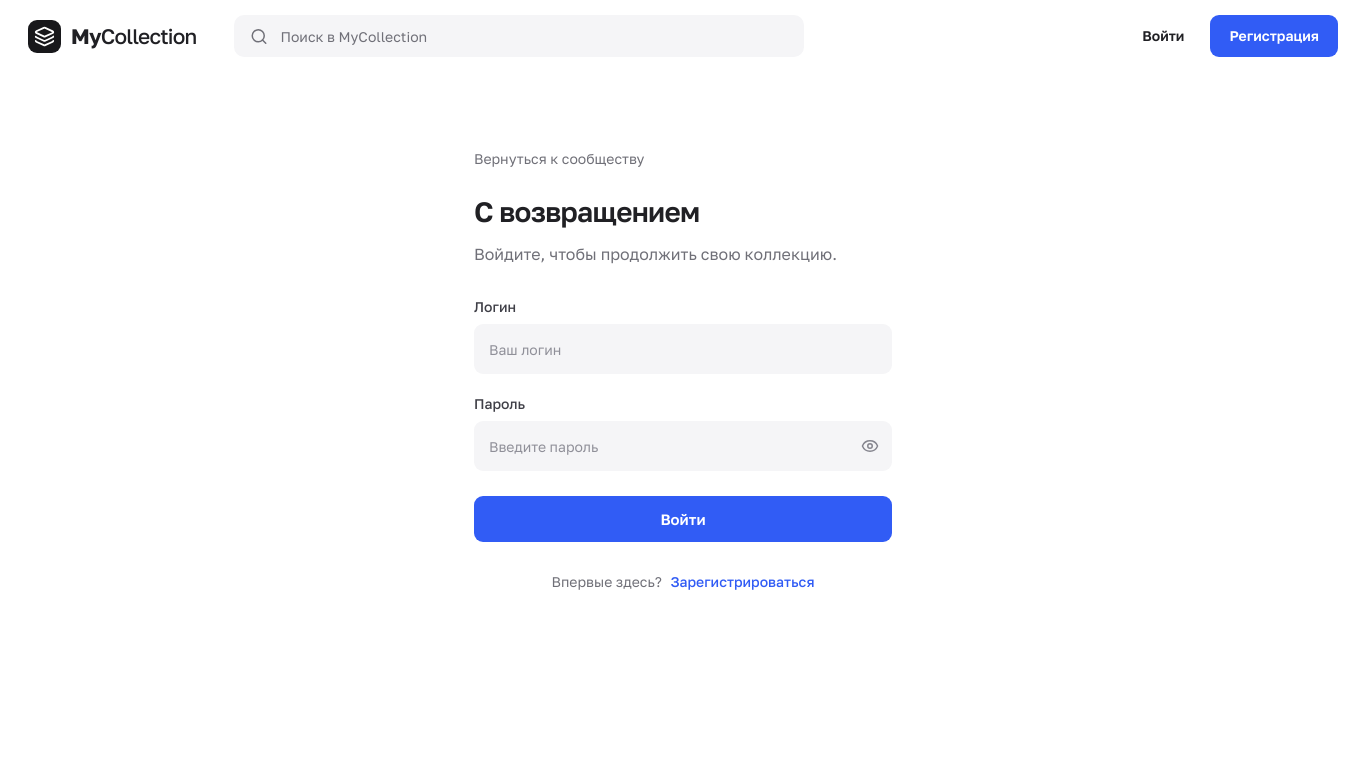
it: MyCollection account flow › shows a useful message when the server is offline
In the field labelled "Логин": (683, 349) [474,324,892,374], type "collector"
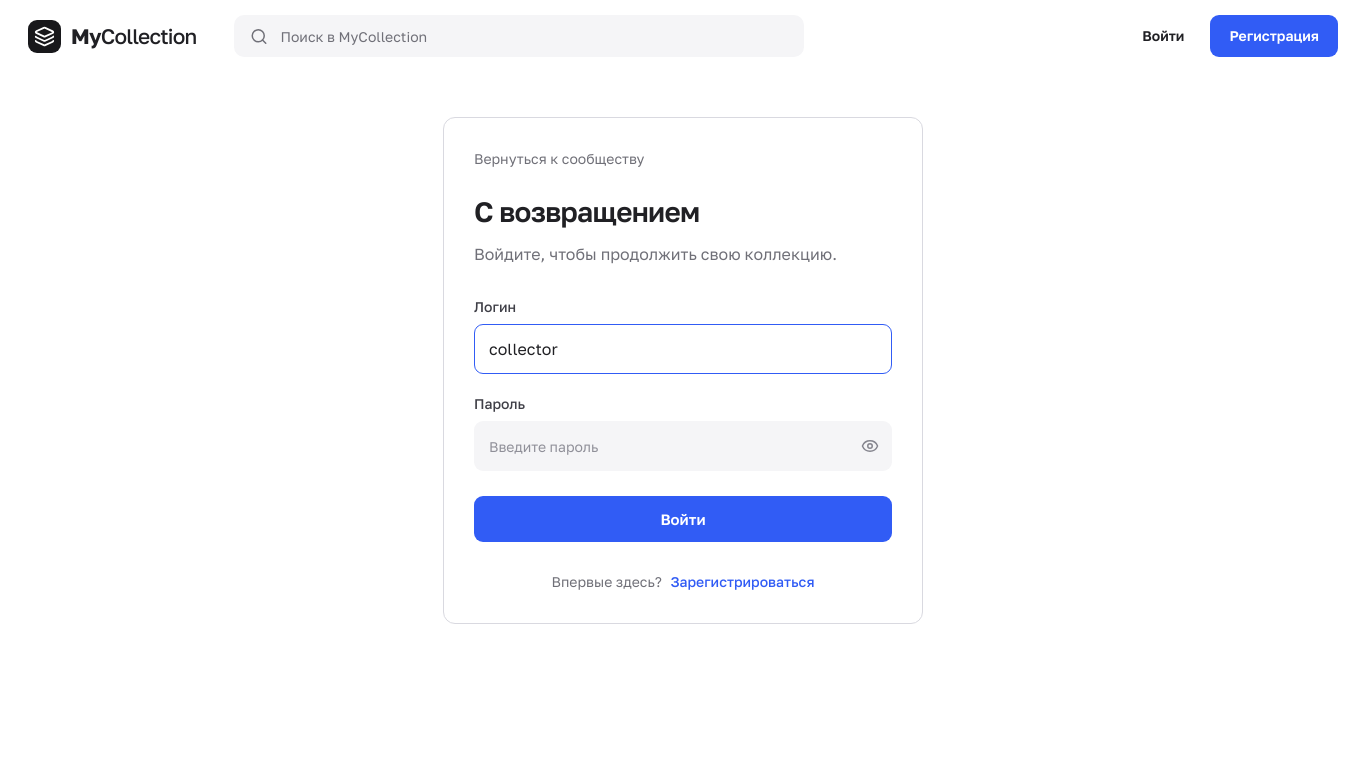
In the password field labelled "Пароль": (683, 446) [474,421,892,471], type "password123"
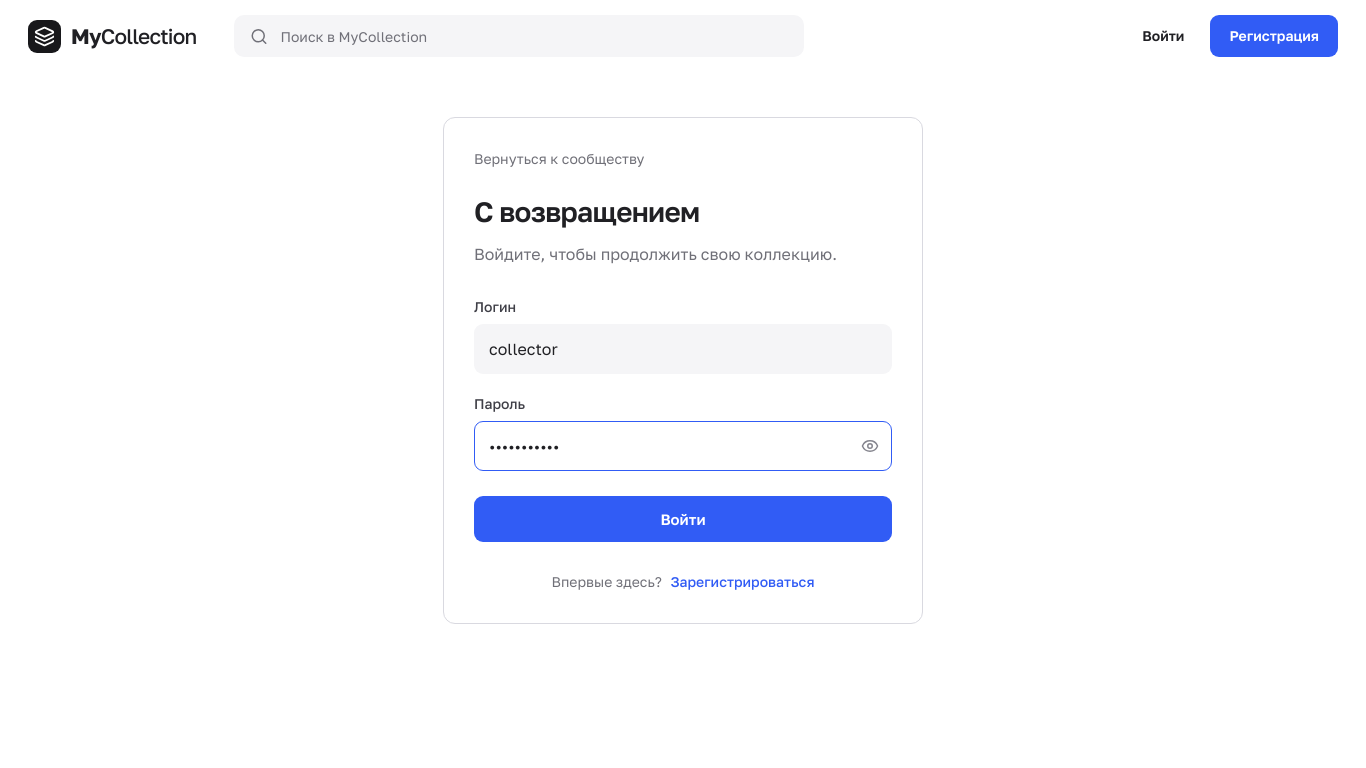
Click the button "Войти": (683, 519) [474,496,892,542]
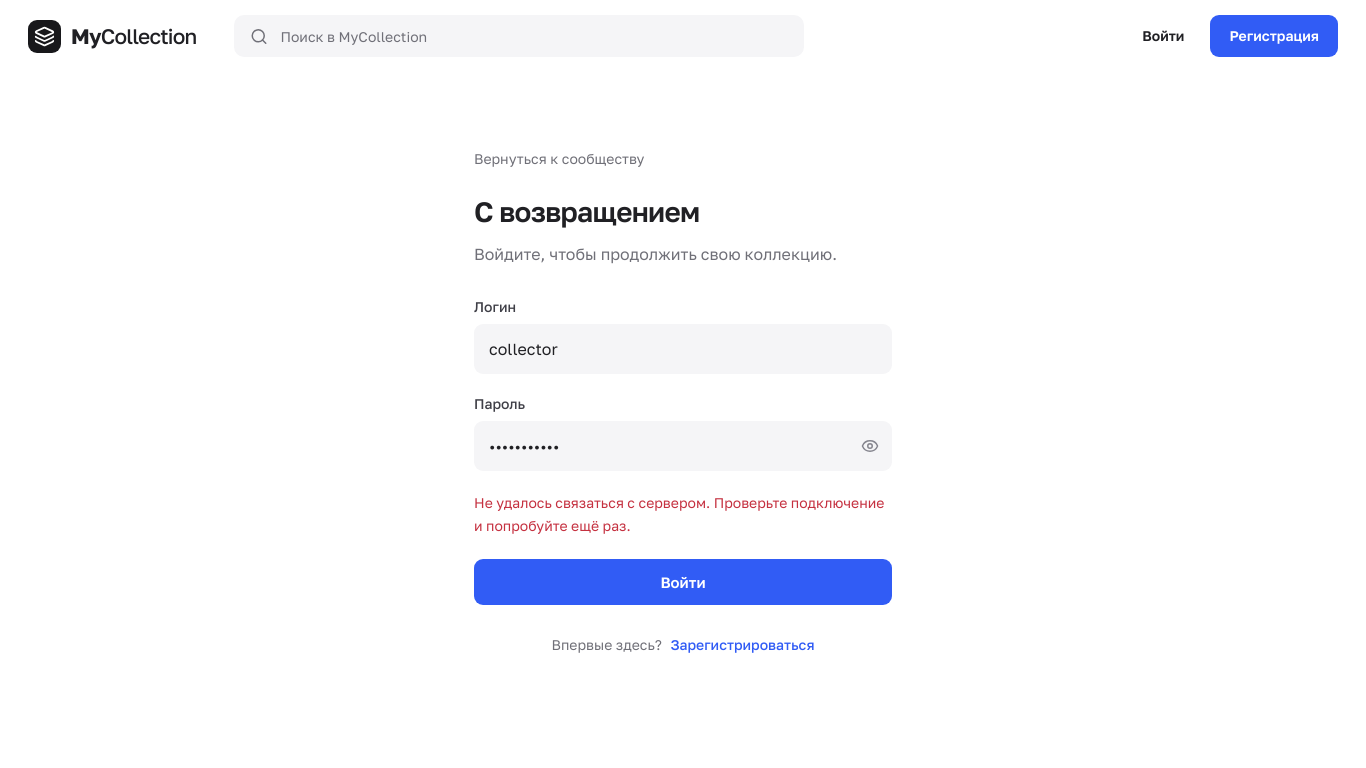
Expected: the message shows "Не удалось связаться с сервером", [474,494,884,534]
